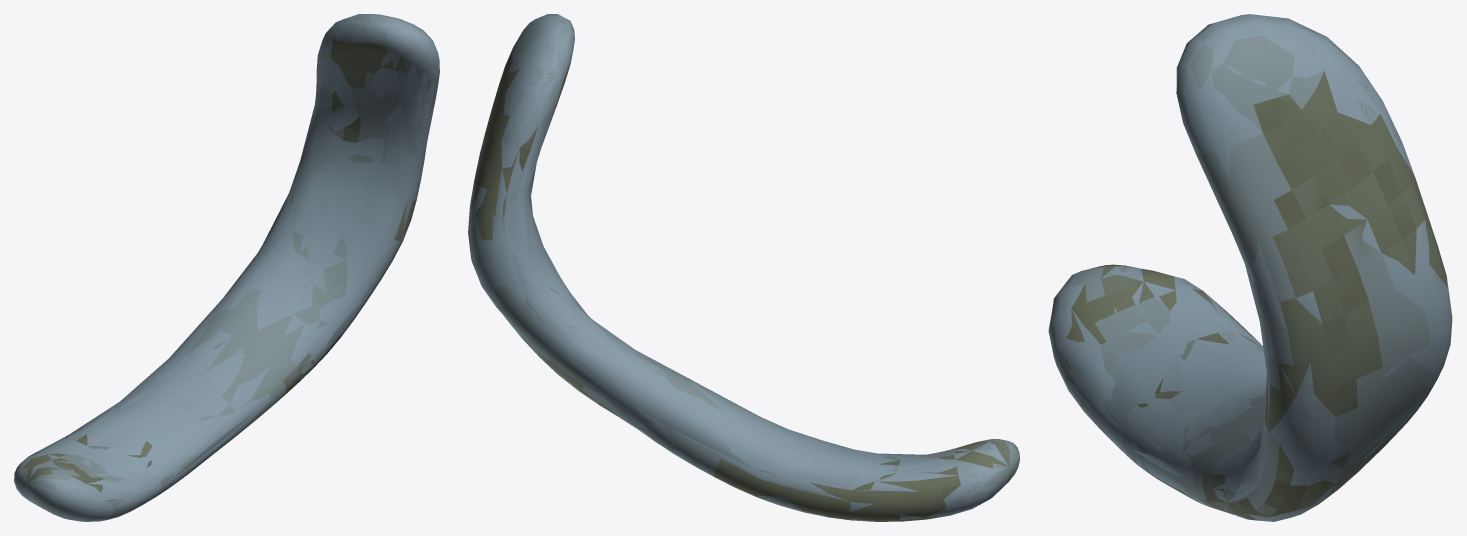
The picture shows the model from 3 angles, left to right: view 1: azimuth 30°, elevation 25°; view 2: azimuth 150°, elevation 25°; view 3: azimuth 270°, elevation 25°; orthographic projection. The views are drawn at different scales.
Parts seen in each view (by area): view 1: CC L02, CC L02 high, CC L02 low; view 2: CC L02, CC L02 high, CC L02 low; view 3: CC L02 high, CC L02, CC L02 low.
Boxes of the visible parts, bbox=[...] form: CC L02: bbox=[14, 14, 439, 521]; CC L02 high: bbox=[14, 14, 439, 521]; CC L02 low: bbox=[61, 82, 428, 491]; CC L02: bbox=[469, 14, 1019, 521]; CC L02 high: bbox=[468, 14, 1019, 521]; CC L02 low: bbox=[509, 150, 941, 487]; CC L02 high: bbox=[1050, 14, 1452, 520]; CC L02: bbox=[1048, 14, 1452, 521]; CC L02 low: bbox=[1101, 238, 1267, 492].
Size of the model in its own units: 5.9 by 5.05 by 2.82.
